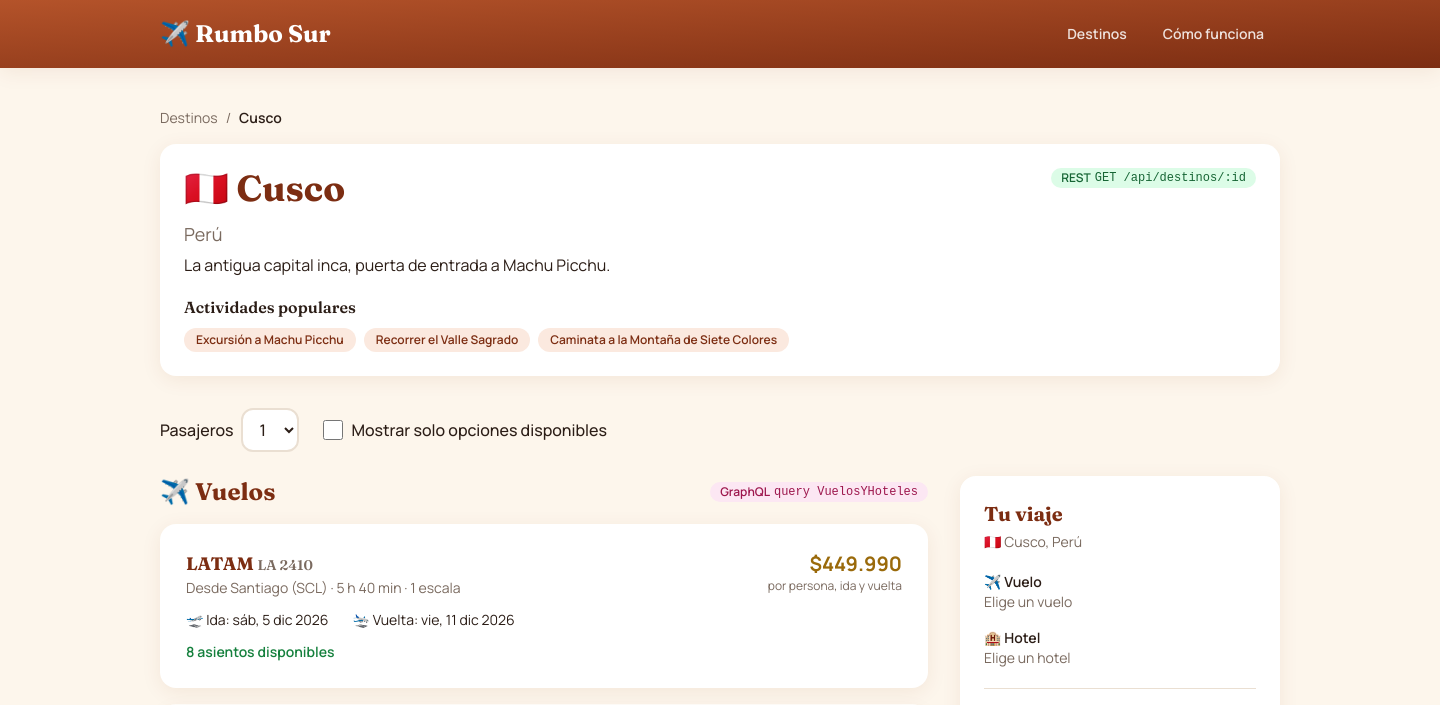
it: Página Destino (REST + GraphQL) › hacer clic de nuevo en un vuelo lo deselecciona
Expected: the heading "🇵🇪 Cusco" is shown, [184,168,345,208]
Expected: the heading "✈️ Vuelos" is shown, [160,476,275,508]
Click the button "LA 2410": click(220, 564) [160,524,928,688]
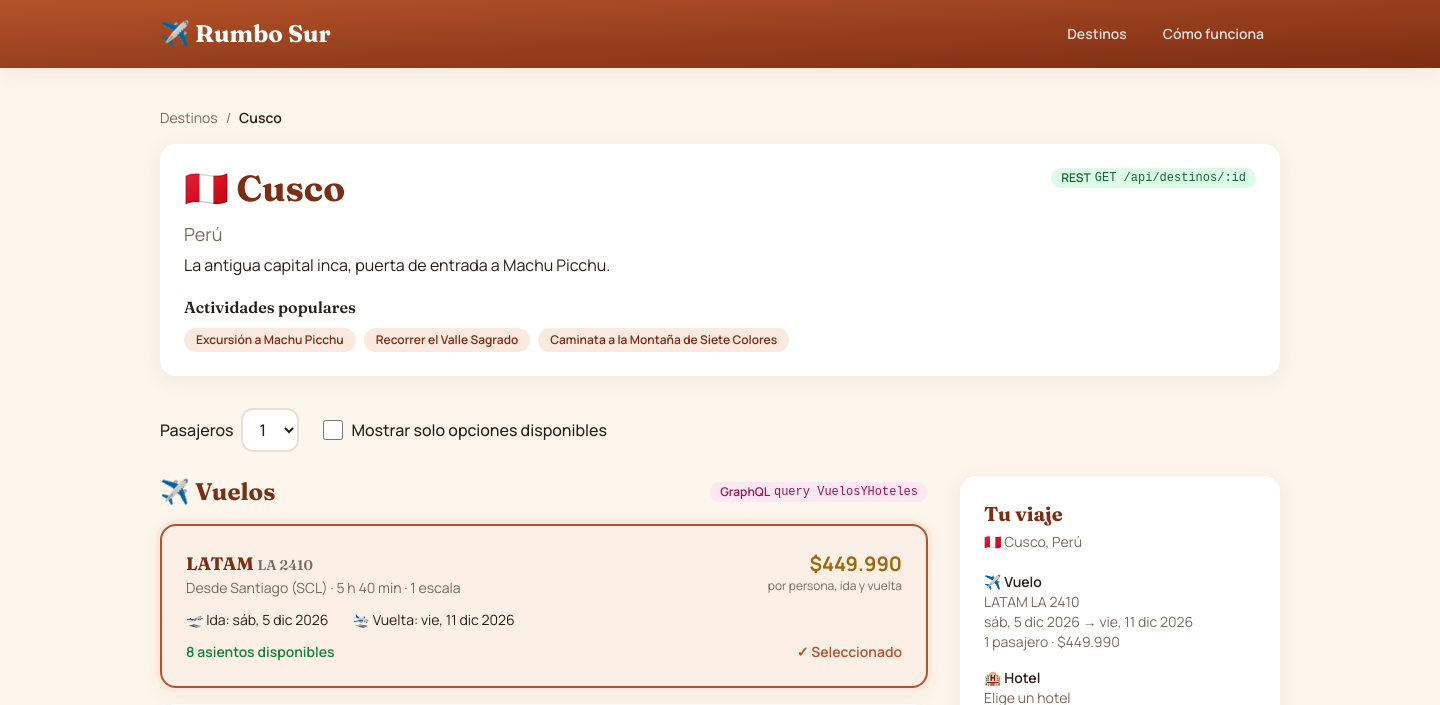
Expected: the button "LA 2410" is pressed
Click the button "LA 2410": click(220, 564) [160,524,928,688]
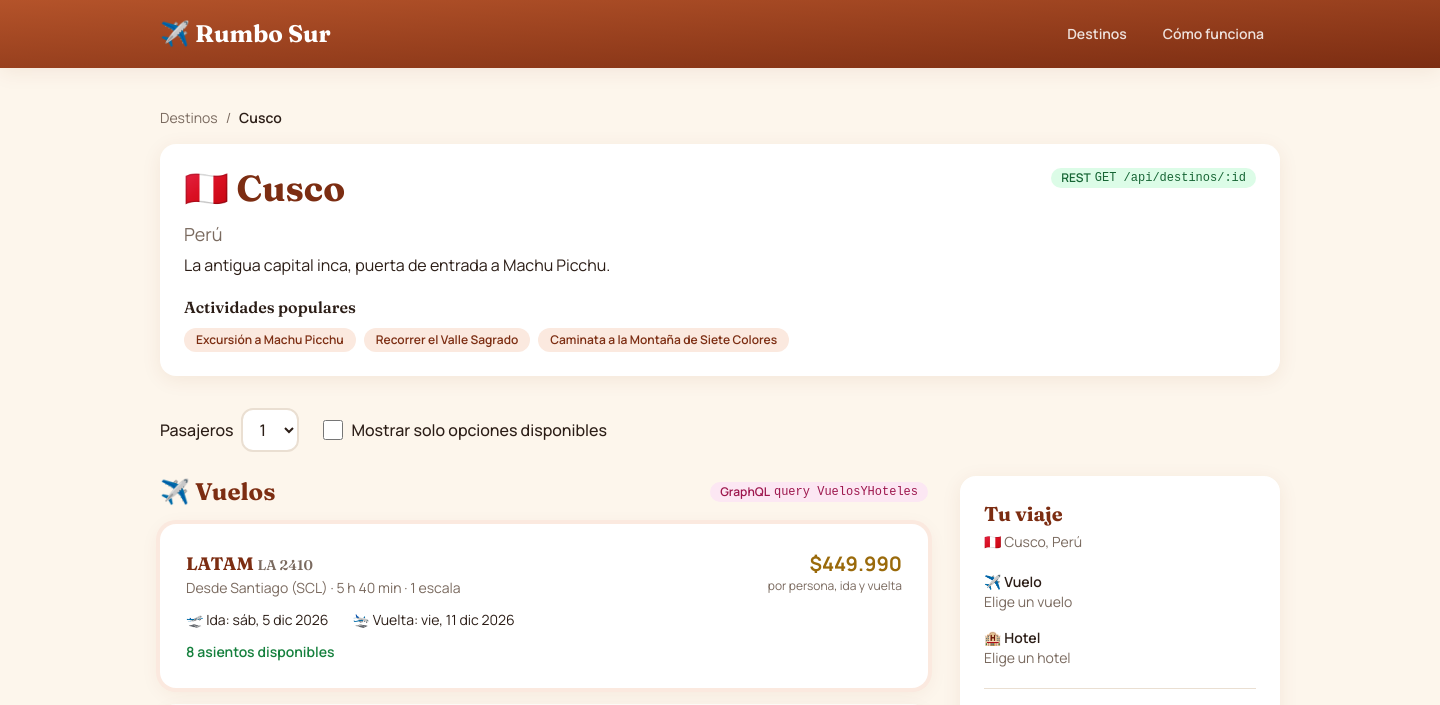
Expected: the button "LA 2410" is not pressed, [160,524,928,688]
